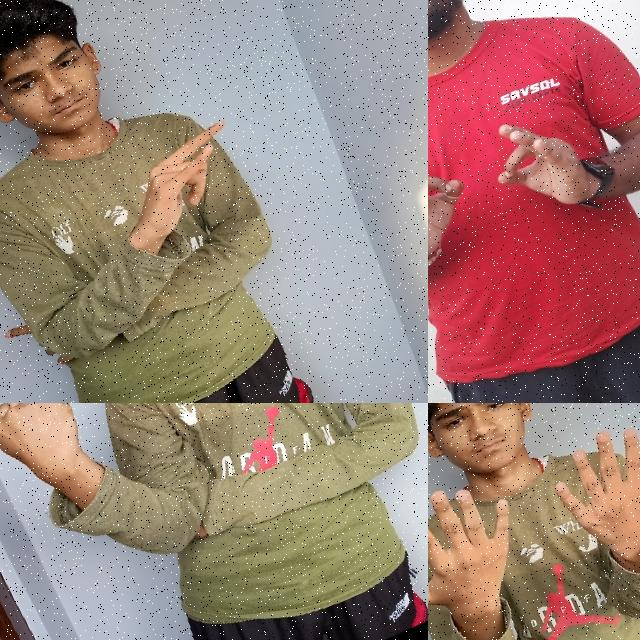Corna: (116, 112, 260, 248)
Dulya: (0, 403, 125, 523)
Moutza: (428, 460, 553, 640), (534, 403, 640, 595)
Okay: (468, 86, 606, 236), (428, 132, 492, 289)
